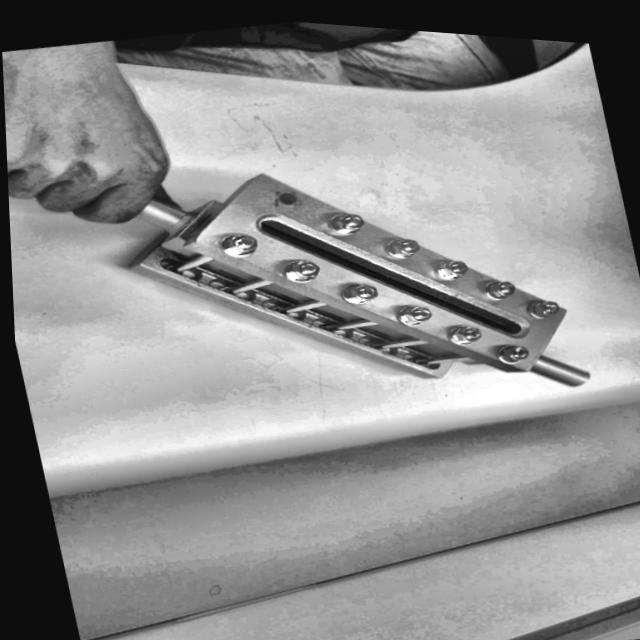ShuiWeiQi_11: (131, 91, 640, 465)
